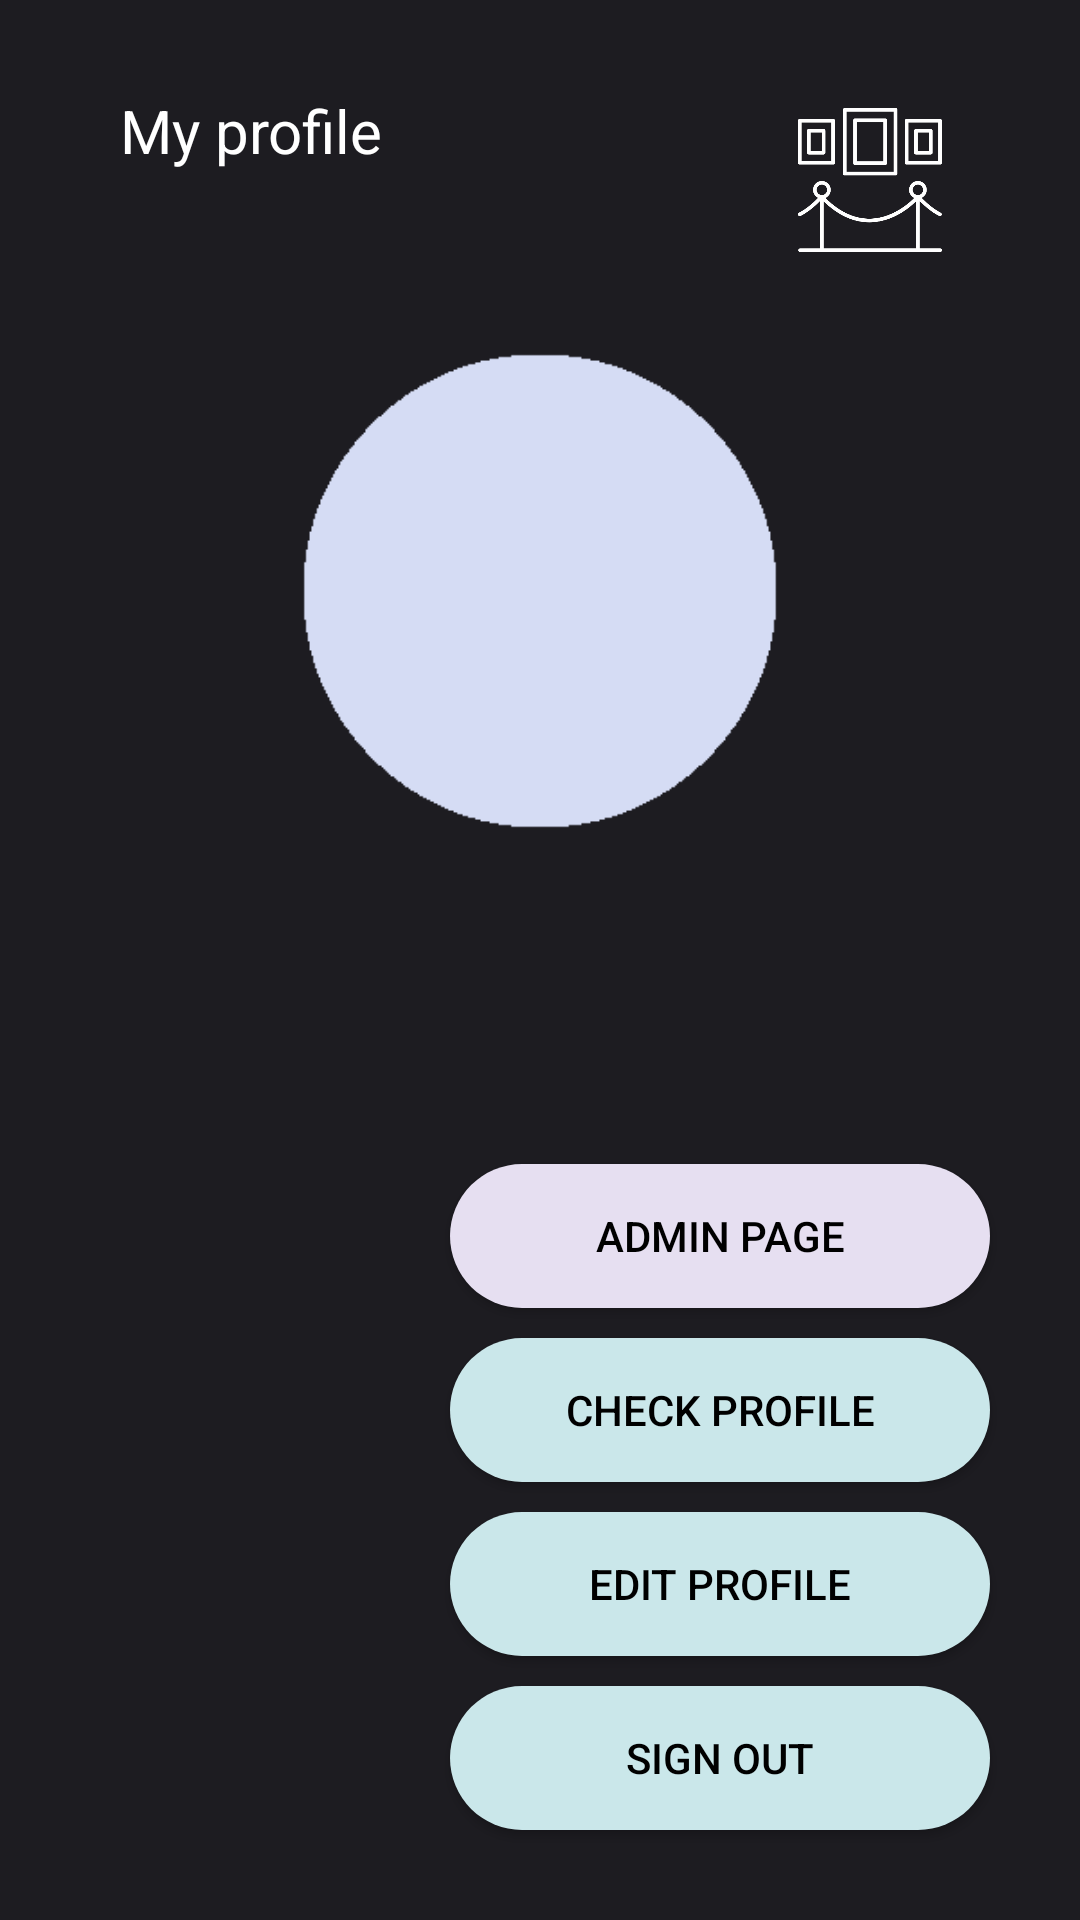

Point at icon controls on the screen. Image size 1080×1920, points as point (x, y).
art gallery: point (870, 180)
